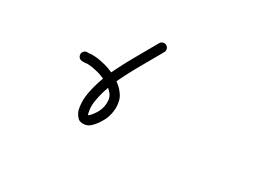t: (97, 34, 179, 100)
